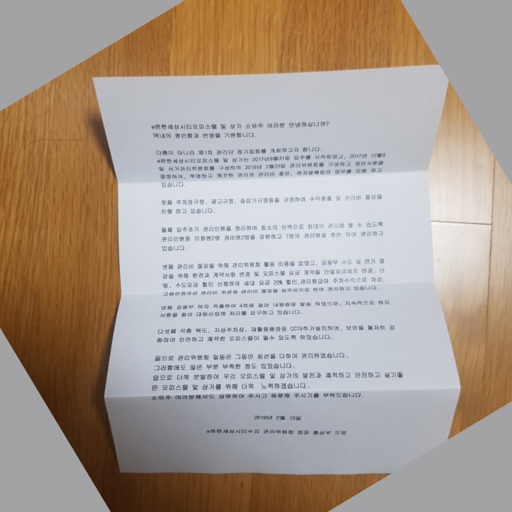Paper_3: (81, 47, 465, 473)
